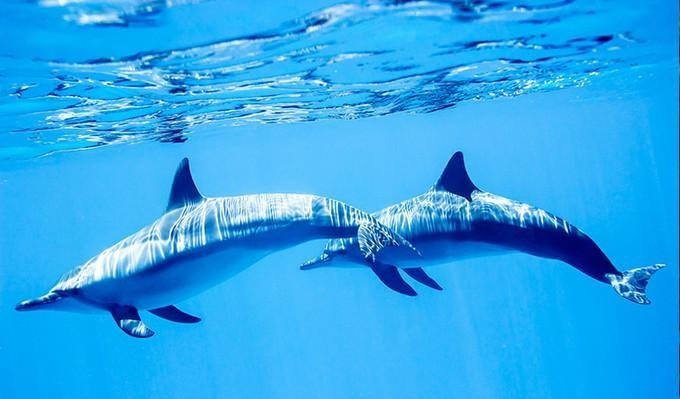fish: (15, 156, 422, 338), (309, 151, 671, 284)
